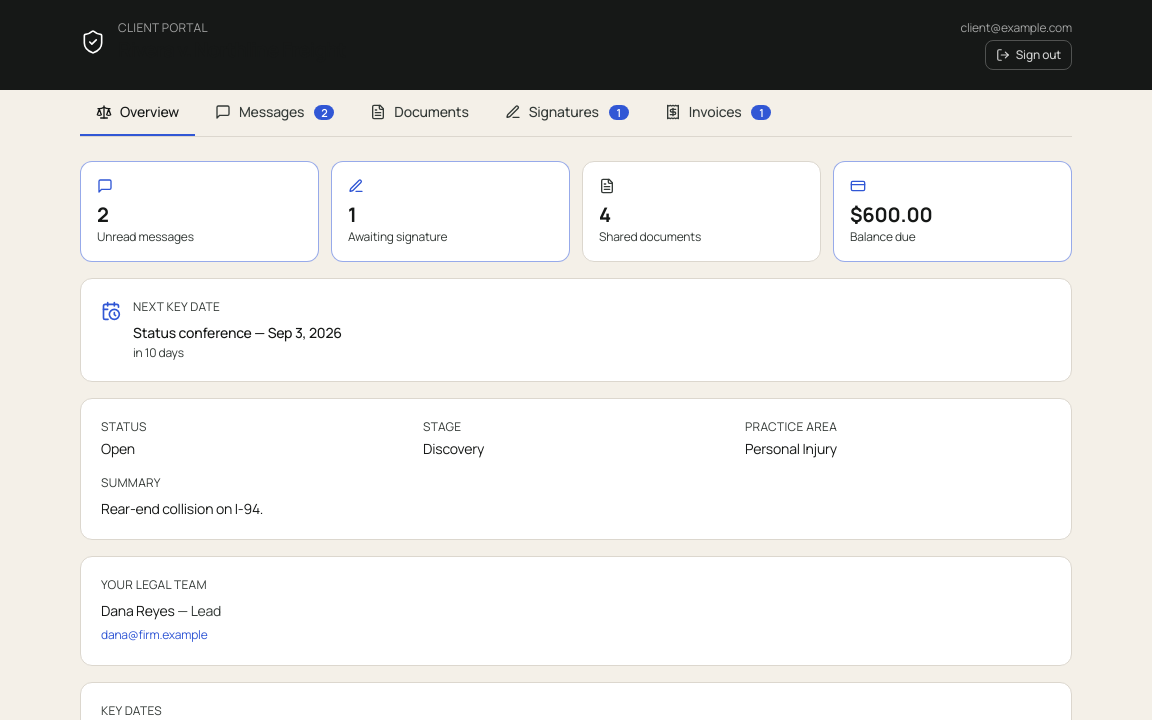
Test: ClientPortalMatterPage › separates documents the firm shared from ones the client sent
This screenshot has width=1152, height=720.
Click the tab "Documents" at (420, 113), box [354,90,485,136]
(page scrolled)
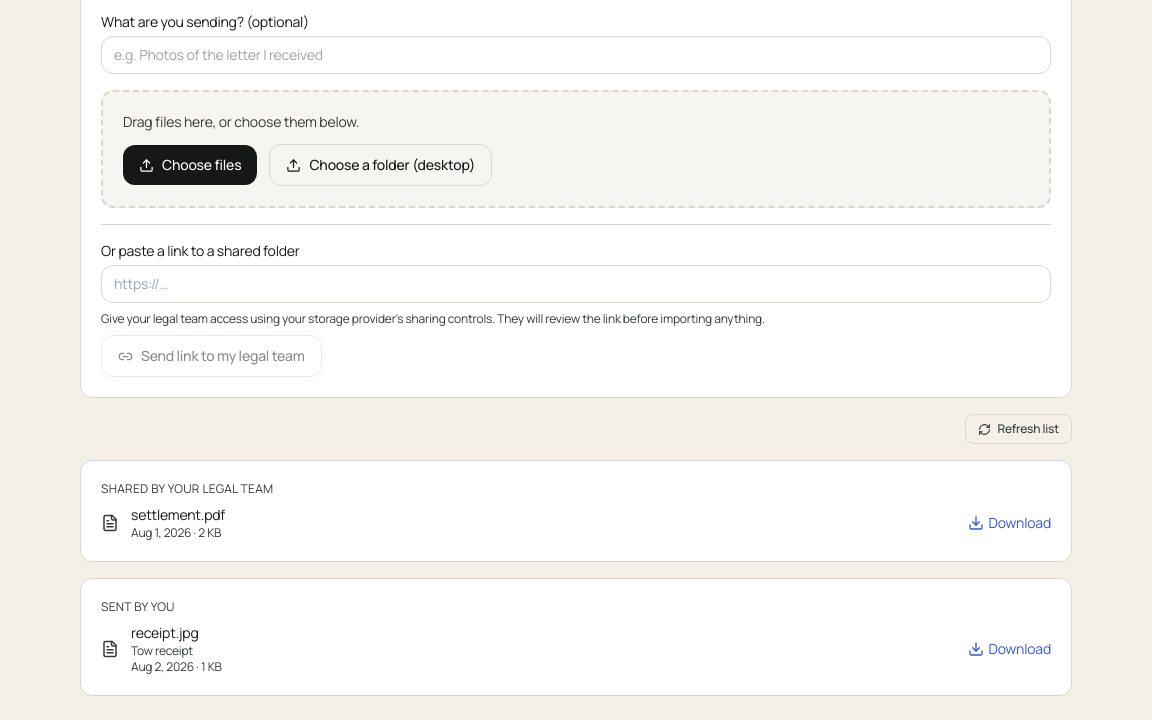
Check: the text "Shared by your legal team" is shown, box [101,480,274,497]
Check: the text "Sent by you" is shown, box [101,598,175,615]
Check: the text "Tow receipt" is shown, box [131,642,193,659]
